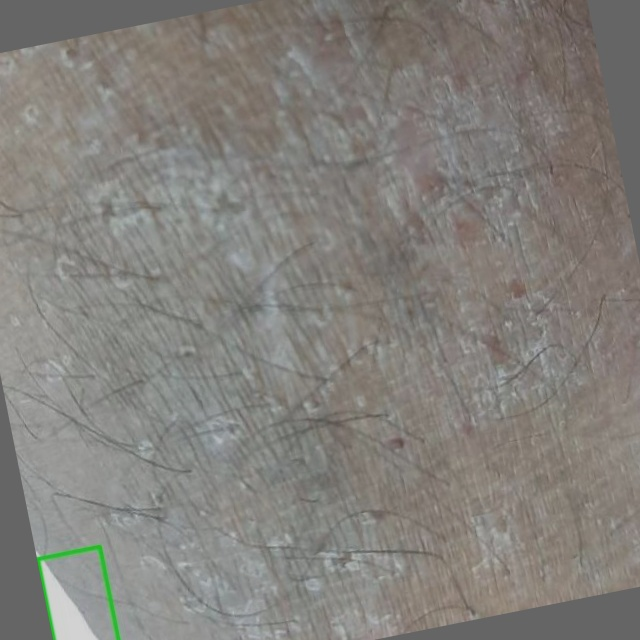Contact Dermatitis: (37, 545, 118, 639)
